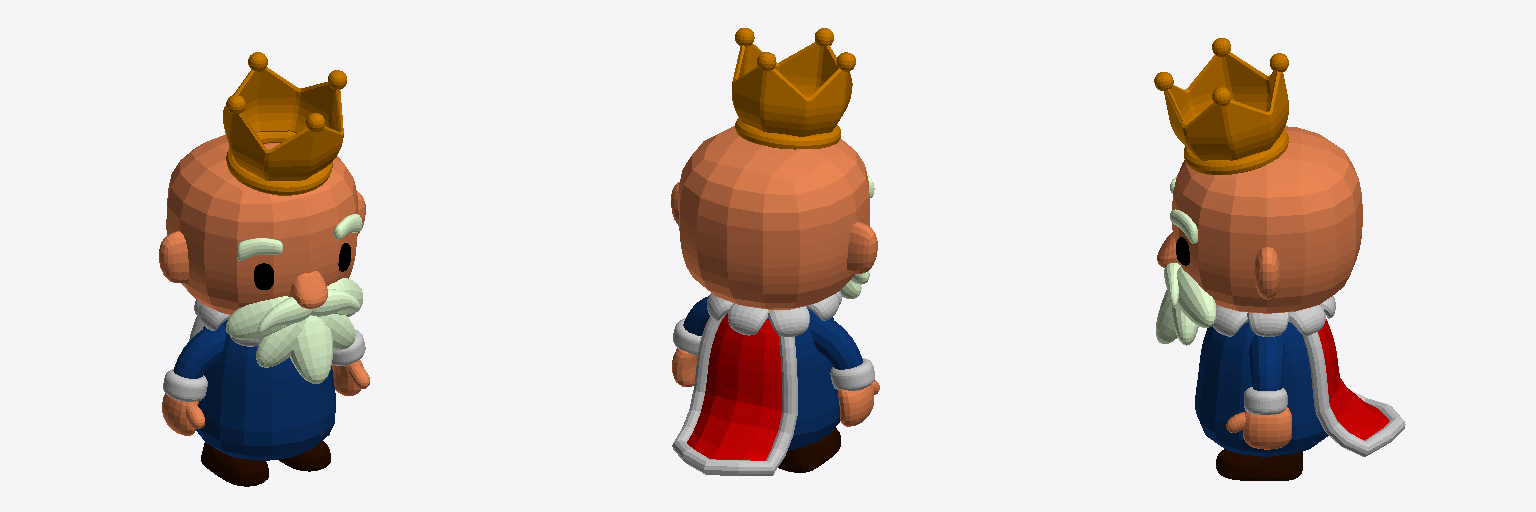
Rendered from Kingfinal.obj.
3 views of the same model, side by side, from view 1: azimuth 30°, elevation 25°; view 2: azimuth 150°, elevation 25°; view 3: azimuth 270°, elevation 25° (orthographic).
Parts seen in each view (by area): view 1: King_Head, King_Body, King_Right_Arm, King_Right_Foot, King_Left_Arm, King_Left_Foot; view 2: King_Head, King_Body, King_Right_Arm, King_Left_Arm, King_Right_Foot; view 3: King_Head, King_Body, King_Left_Arm, King_Left_Foot.
Boxes of the visible parts, x1,y1,x2,y2 form: King_Head: [159, 52, 365, 383]; King_Body: [189, 299, 335, 460]; King_Right_Arm: [162, 323, 225, 435]; King_Right_Foot: [201, 442, 268, 486]; King_Left_Arm: [332, 330, 369, 395]; King_Left_Foot: [278, 441, 330, 471]; King_Head: [671, 28, 877, 309]; King_Body: [672, 291, 841, 475]; King_Right_Arm: [810, 313, 879, 426]; King_Left_Arm: [672, 296, 709, 386]; King_Right_Foot: [778, 428, 840, 472]; King_Head: [1154, 38, 1362, 345]; King_Body: [1195, 296, 1405, 456]; King_Left_Arm: [1226, 335, 1291, 449]; King_Left_Foot: [1216, 449, 1302, 480].
Size of the model in its own units: 1.79 by 3.4 by 1.91.